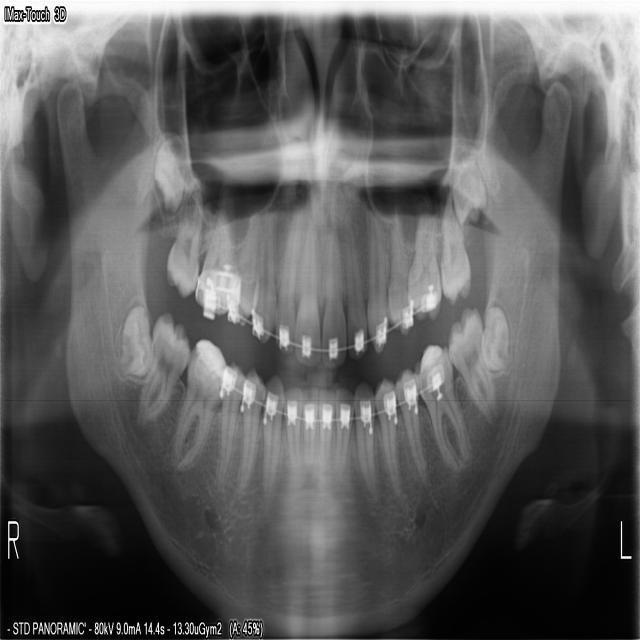LCD: (353, 373, 382, 503)
LCU: (367, 218, 390, 352)
LID: (335, 385, 352, 487), (318, 385, 336, 470)
LIU: (342, 213, 372, 364), (320, 228, 348, 368)
LMD: (415, 334, 468, 470), (446, 299, 501, 425), (478, 303, 511, 375)
LMU: (405, 212, 444, 328), (439, 193, 474, 308), (451, 159, 487, 229)
LPMD: (397, 367, 427, 489), (374, 374, 402, 494)
LPMU: (387, 219, 416, 335)
RCD: (259, 372, 282, 502)
RCU: (247, 219, 277, 352)
RID: (283, 383, 302, 464), (300, 383, 319, 463)
RIU: (293, 218, 321, 372), (274, 219, 300, 353)
RMD: (168, 333, 229, 473), (133, 312, 191, 428), (113, 290, 151, 385)
RMU: (159, 193, 204, 305), (192, 203, 234, 318), (151, 137, 195, 220)
RPMD: (213, 355, 245, 484), (235, 365, 264, 497)
RPMU: (227, 214, 261, 330)
